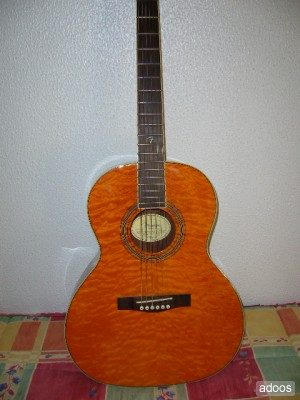guitar: (63, 1, 245, 389)
